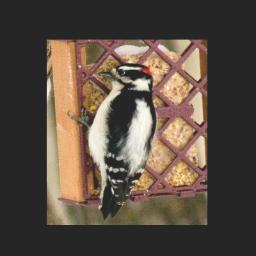Woodpecker: (68, 63, 156, 219)
